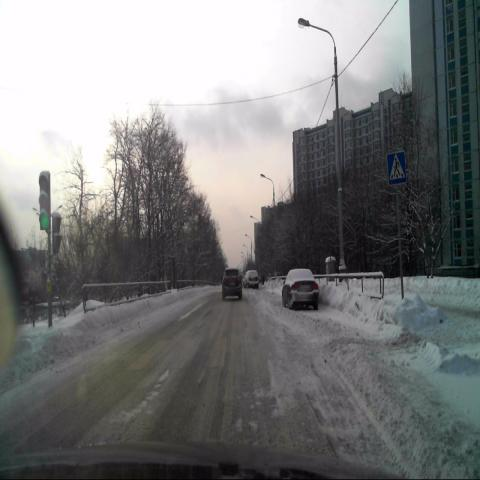5_19_1: (386, 152, 406, 185)
